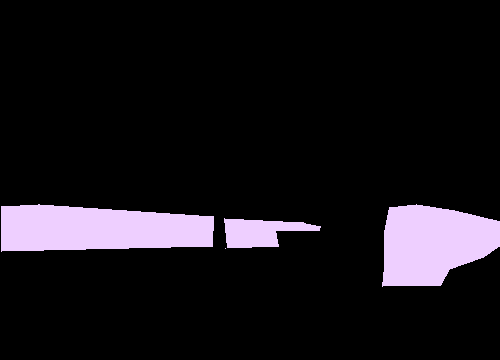Train: (1, 204, 320, 251), (382, 204, 500, 286)
